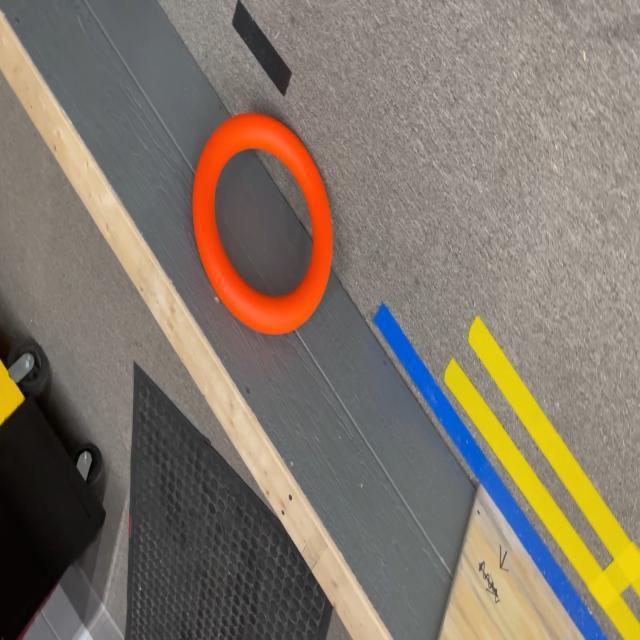note: (192, 114, 334, 335)
